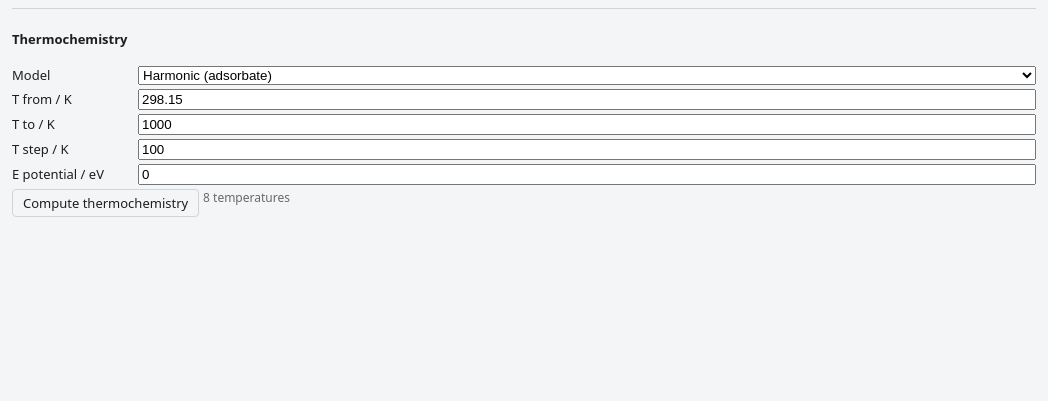
Scenario: the pressure and sigma fields only exist for the ideal gas
Check: the field labelled "Pressure / Pa" is not shown
Select "Ideal gas (molecule)" in the dropdown labelled "Model" at point(587, 75), box [138, 66, 1036, 85]
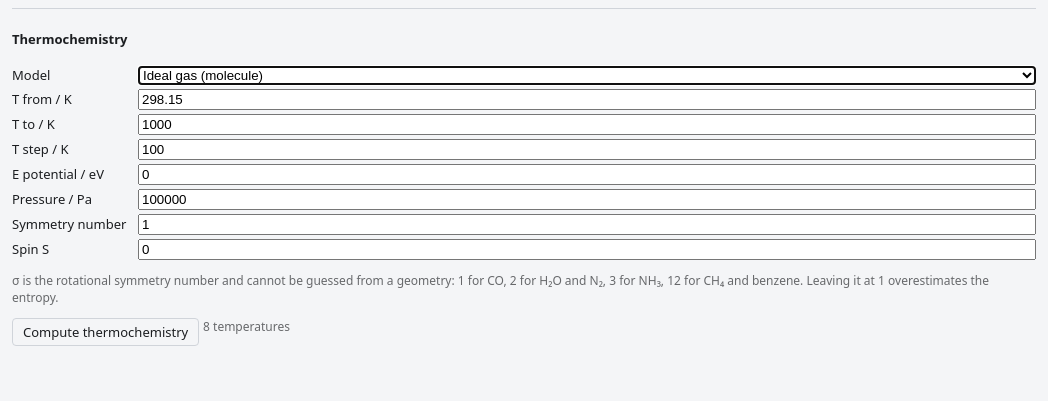
Check: the number field labelled "Pressure / Pa" is shown, box [138, 189, 1036, 210]
Select "Hindered translator/rotor" in the dropdown labelled "Model" at point(587, 75), box [138, 66, 1036, 85]
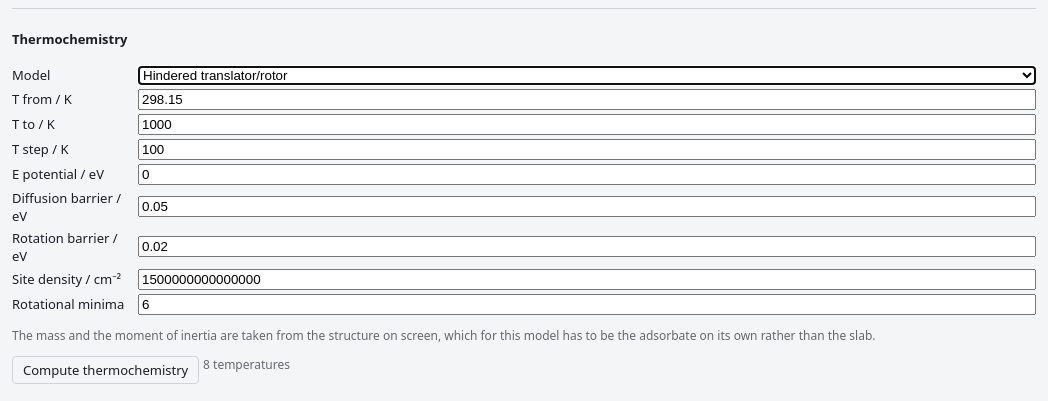
Check: the label labelled "Pressure / Pa" is gone
Check: the number field labelled "Diffusion barrier / eV" is shown, box [138, 196, 1036, 217]
Check: the number field labelled "Rotational minima" is shown, box [138, 294, 1036, 315]
